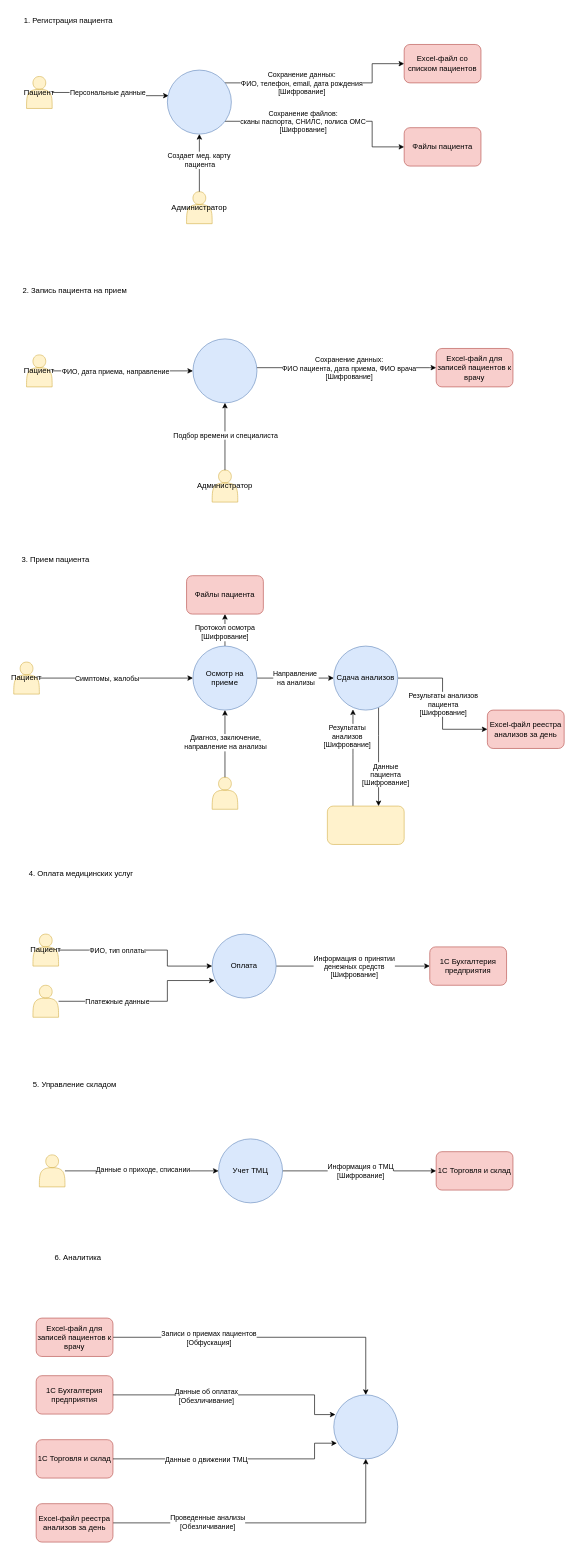
This 575x1553 diagram has some shape labels left out. The shapes that lost their labels are listed below. From the top down, each one's centre as x and y in pixels, then its label:
At pixel 199 101: "Регистрация".
At pixel 224 370: "Запись на прием".
At pixel 225 793: "Врач".
At pixel 365 824: "Лаборатория".
At pixel 45 1001: "Кассир".
At pixel 52 1170: "Сотрудник склада".
At pixel 365 1426: "Бизнес-отчеты".
